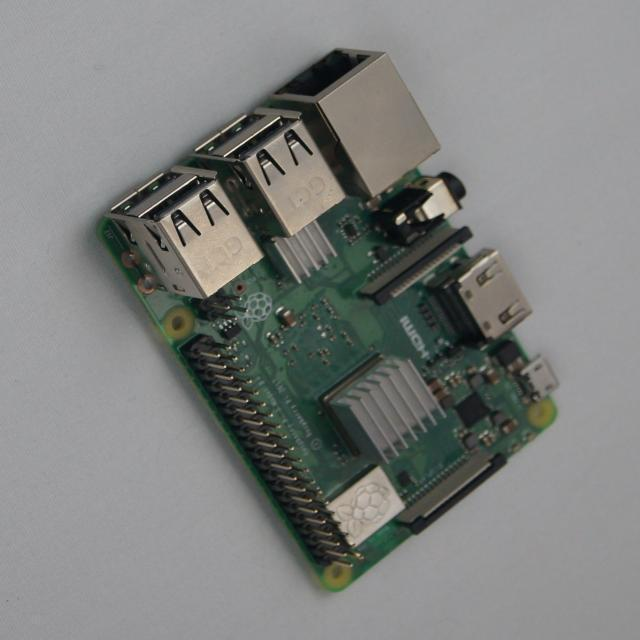Raspberry Pi 3 B-: (101, 50, 557, 591)
